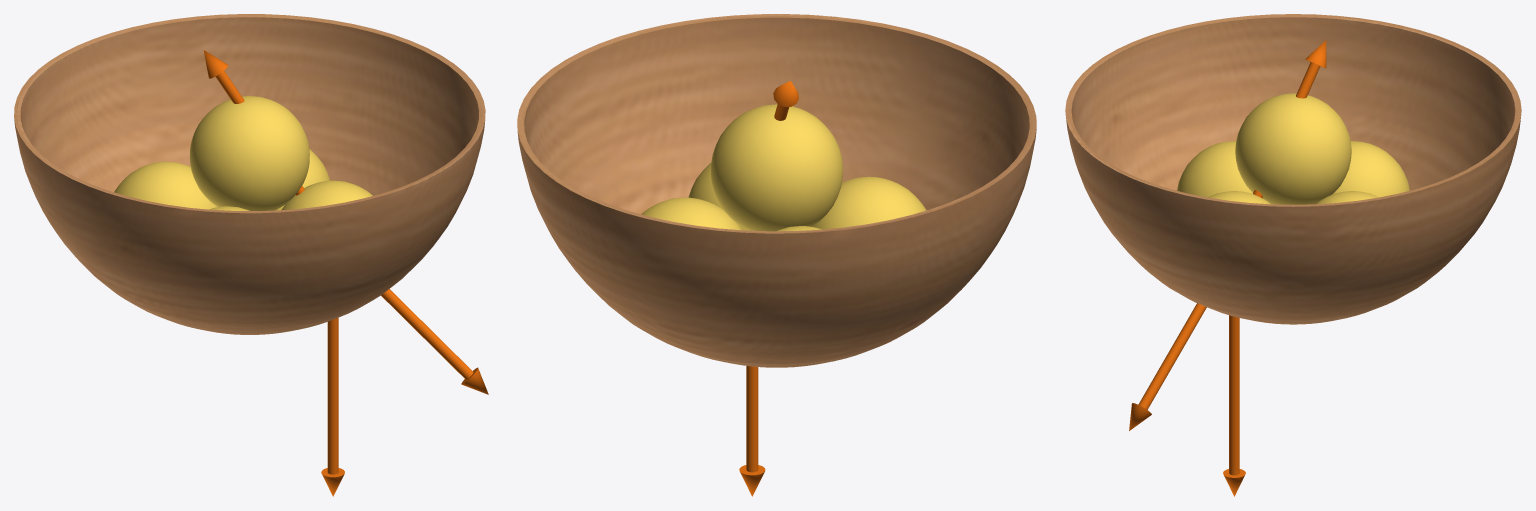
File: xiaoqiu2.gltf
3 views of the same model, side by side, from view 1: azimuth 30°, elevation 25°; view 2: azimuth 150°, elevation 25°; view 3: azimuth 270°, elevation 25° (orthographic). The views are drawn at different scales.
Visible parts, largest first — view 1: 1; view 2: 1; view 3: 1.
Boxes of the visible parts, x1,y1,x2,y2 form: 1: [14, 14, 488, 496]; 1: [517, 14, 1036, 496]; 1: [1065, 14, 1521, 496].
Size of the model in its own units: 72.83 by 73.66 by 72.83.
2 materials, 2 textured.
